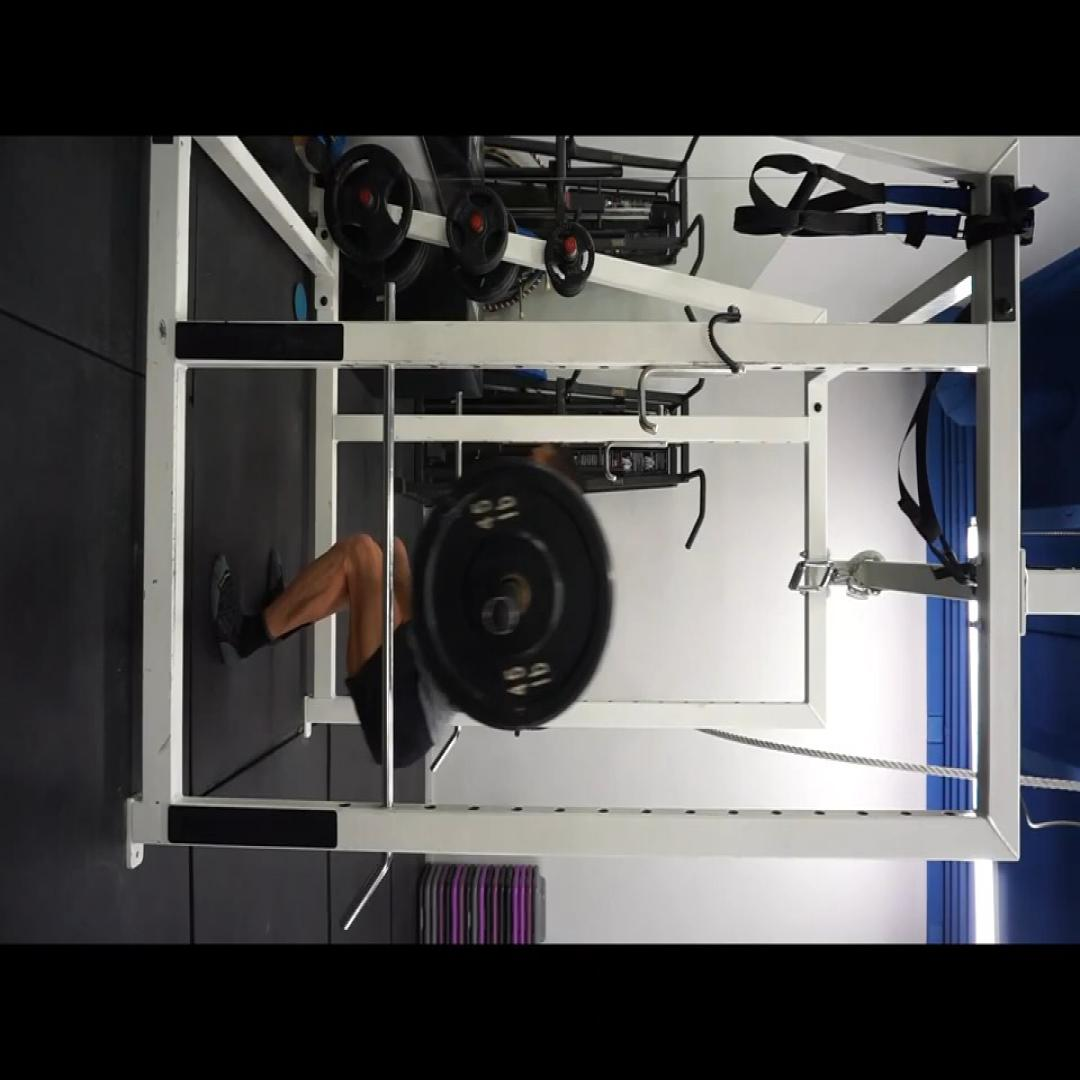Bar: (479, 594, 519, 638)
Barbell: (410, 462, 612, 730)
